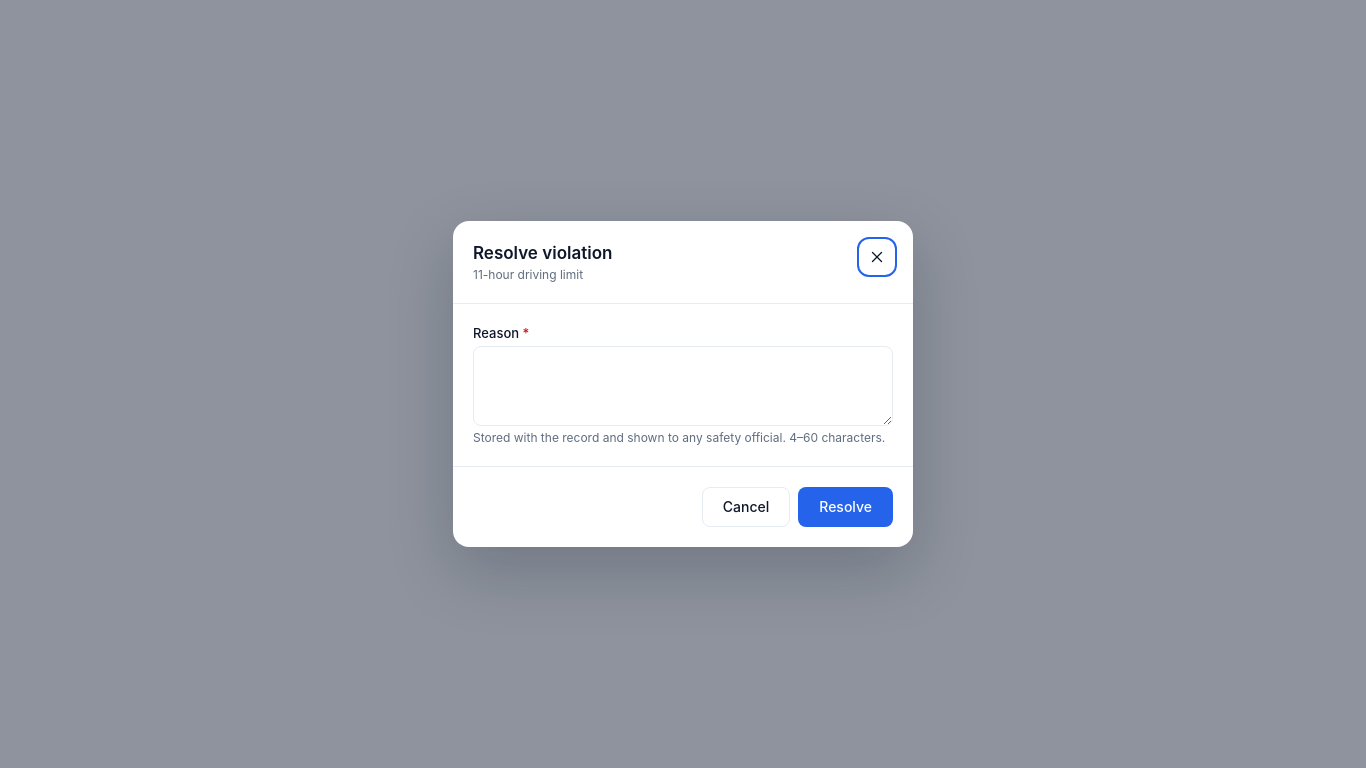
Test: ResolveViolationModal › puts a server resolutionNote 422 under the textarea and keeps the modal open
Type "Dispatcher error, corrected." into the text box. click: (683, 386)
box: [473,346,893,426]
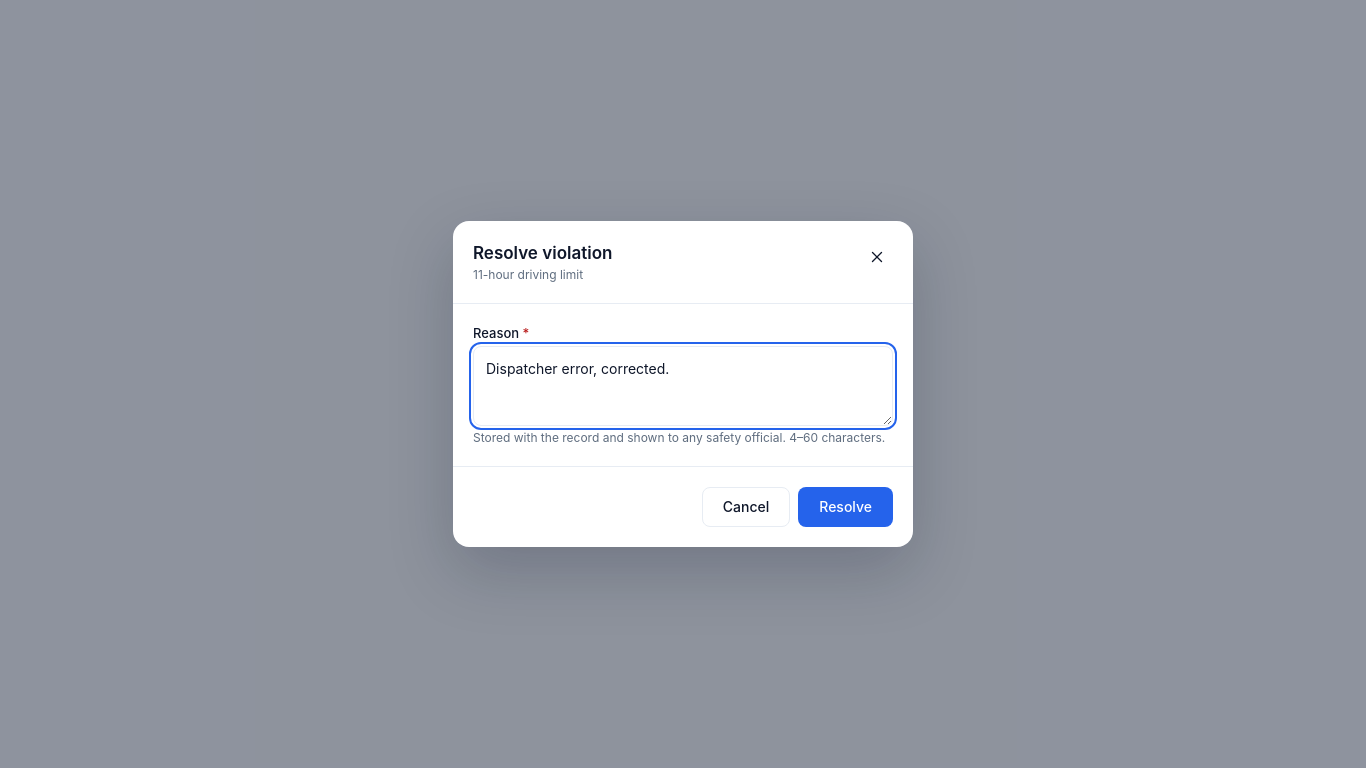
Click the button "Resolve". click: (846, 507)
box: [798,487,893,527]
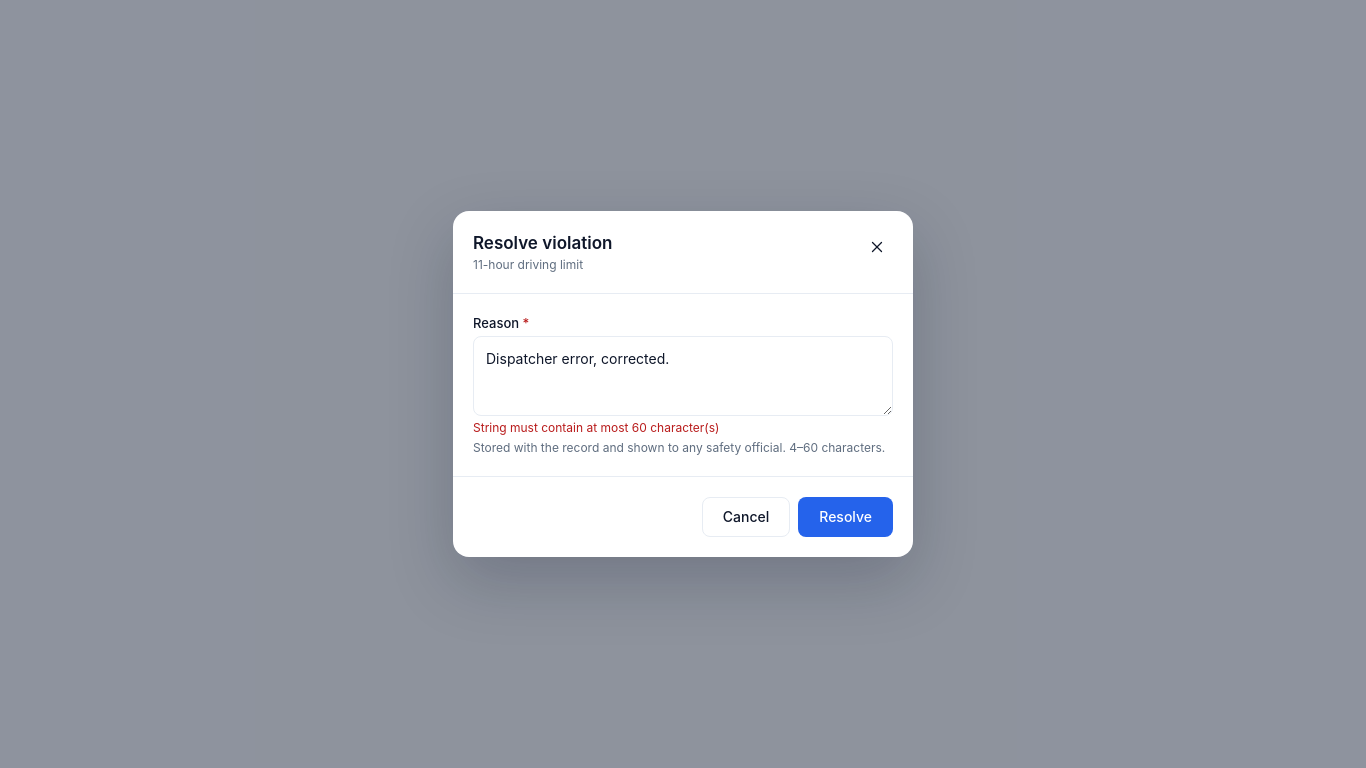
Expected: the text "String must contain at most 60 character(s)" is shown, [473,420,720,435]
